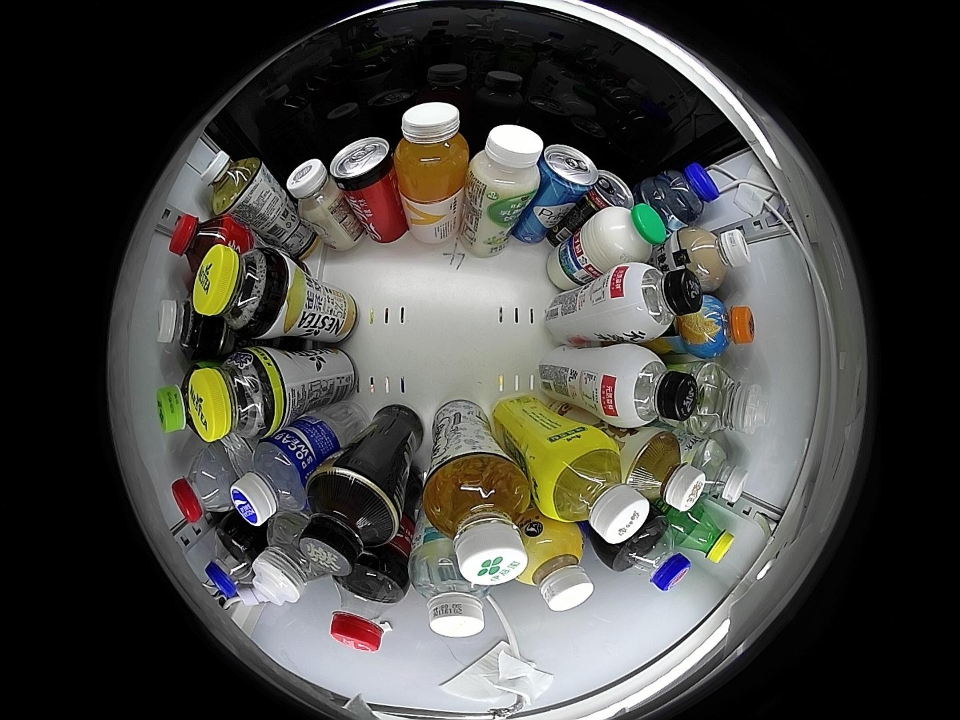asamu: (514, 527, 593, 612)
baicha: (422, 454, 531, 586), (199, 150, 263, 214)
baishikele-2: (611, 518, 690, 592), (204, 524, 263, 598)
baokuangli: (229, 438, 313, 526)
binghongcha: (169, 213, 240, 275)
bingtangxueli: (536, 436, 650, 544)
chacui: (187, 346, 288, 440), (192, 243, 289, 337)
guolicheng: (682, 296, 755, 358)
jianjiao: (251, 520, 326, 607), (687, 361, 768, 436)
kele-b: (329, 562, 406, 654)
lingdukele: (330, 137, 396, 193)
liziyuan: (584, 202, 669, 270)
maidong: (648, 161, 721, 228)
nongfushanquan: (171, 447, 240, 523)
qingdaowangzi-2: (539, 143, 599, 199)
qinningshui: (410, 546, 489, 638), (690, 438, 749, 505)
rancha-1: (297, 468, 402, 576)
rancha-2: (625, 431, 706, 512)
weic: (394, 101, 470, 200)
weiweidounai: (286, 158, 346, 220)
wuhounaicha: (678, 226, 751, 291)
wulongcha: (156, 295, 215, 358)
xuebi-b: (673, 505, 735, 565)
yezhi: (584, 169, 637, 212)
yitengyuan: (157, 364, 203, 436)
yousuanru: (469, 124, 544, 204)
yuanqishui: (600, 345, 700, 428), (611, 263, 704, 342)
